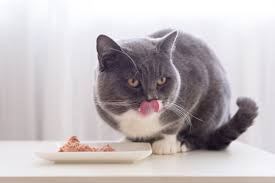Gato: (88, 24, 192, 135)
